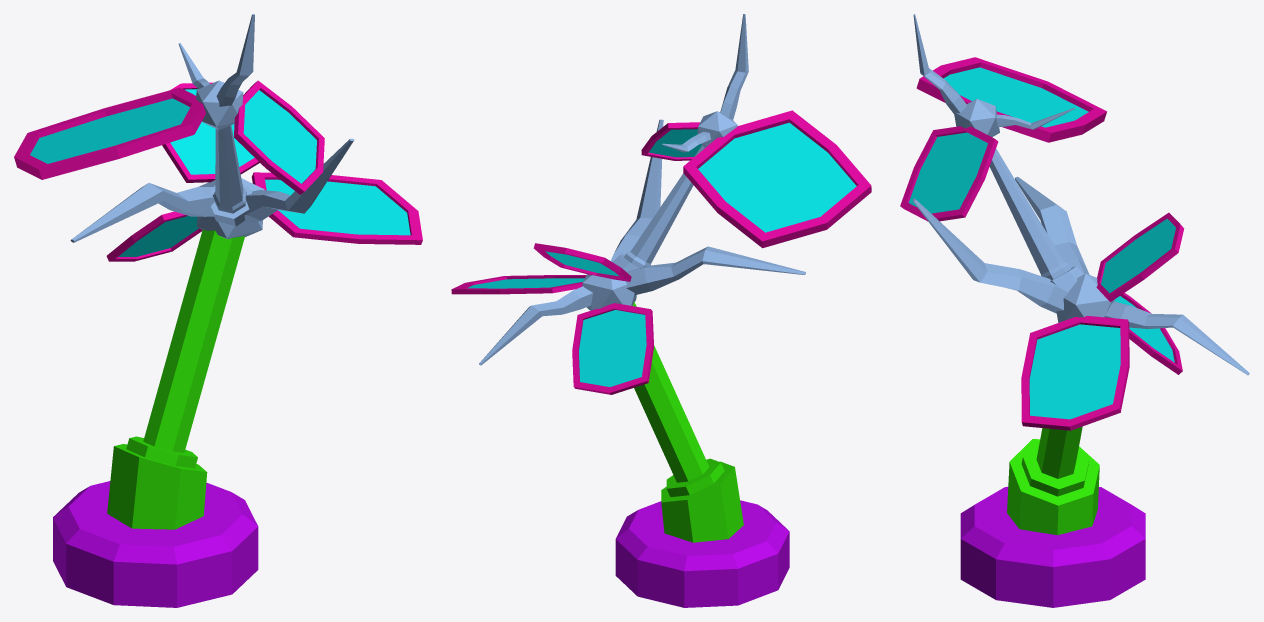
File: arbuste.fbx
The picture shows the model from 3 angles, left to right: view 1: azimuth 30°, elevation 25°; view 2: azimuth 150°, elevation 25°; view 3: azimuth 270°, elevation 25°; orthographic projection. The views are drawn at different scales.
Visible parts, largest first — view 1: Socle008, tige010, panneauxSolaire006, bordure006, branches017; view 2: panneauxSolaire006, Socle008, branches017, bordure006, tige010; view 3: panneauxSolaire006, Socle008, branches017, bordure006, tige010.
Part boxes in pixels (x1=…): Socle008: x1=53, y1=481, x2=258, y2=607; tige010: x1=107, y1=229, x2=244, y2=529; panneauxSolaire006: x1=30, y1=89, x2=410, y2=256; bordure006: x1=14, y1=80, x2=422, y2=261; branches017: x1=70, y1=14, x2=354, y2=242; panneauxSolaire006: x1=467, y1=122, x2=856, y2=386; Socle008: x1=615, y1=500, x2=789, y2=607; branches017: x1=479, y1=14, x2=805, y2=365; bordure006: x1=451, y1=110, x2=871, y2=394; tige010: x1=632, y1=301, x2=743, y2=542; panneauxSolaire006: x1=908, y1=67, x2=1175, y2=419; Socle008: x1=960, y1=486, x2=1145, y2=607; branches017: x1=912, y1=14, x2=1249, y2=375; bordure006: x1=900, y1=57, x2=1184, y2=430; tige010: x1=1007, y1=426, x2=1099, y2=535.
Size of the model in its own units: 116 by 154 by 86.82.
